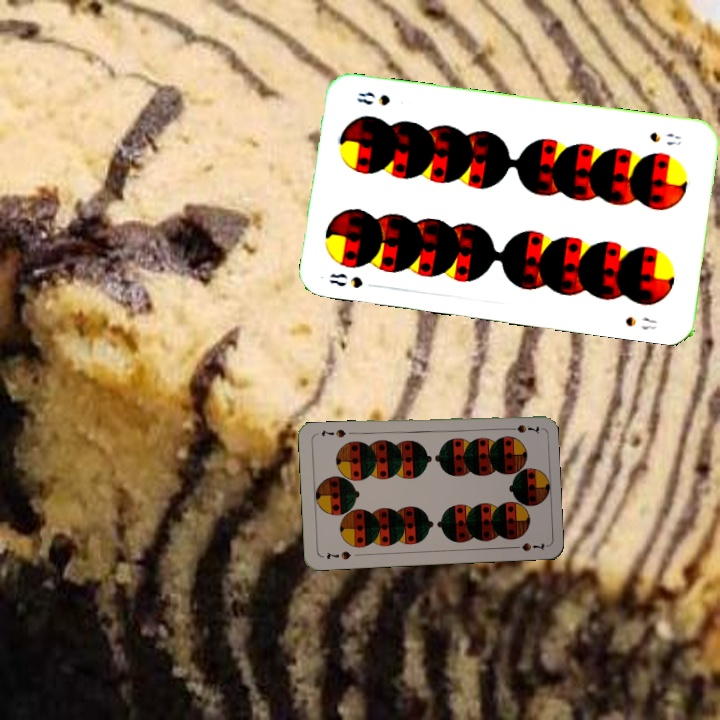S7: (501, 420, 542, 435), (322, 547, 353, 562)
S8: (326, 269, 366, 291), (646, 128, 684, 148)
